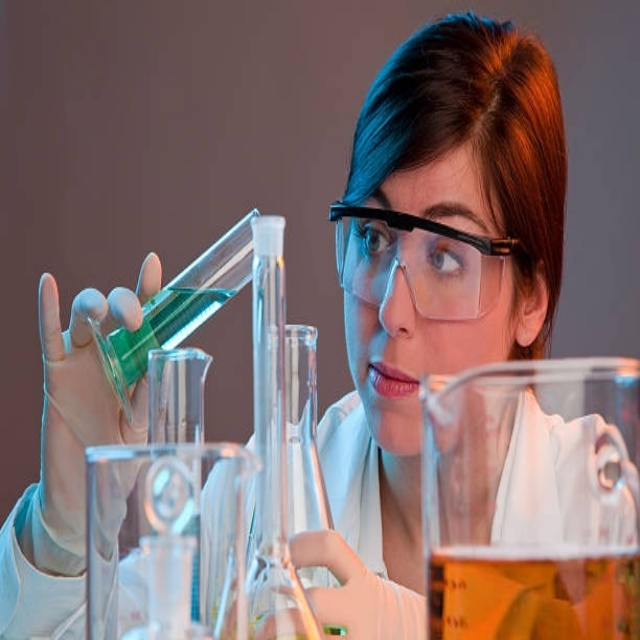Gafas: (332, 206, 520, 322)
Guantes: (35, 257, 189, 573), (287, 525, 425, 635)
Sin_mascara: (360, 350, 417, 436)
